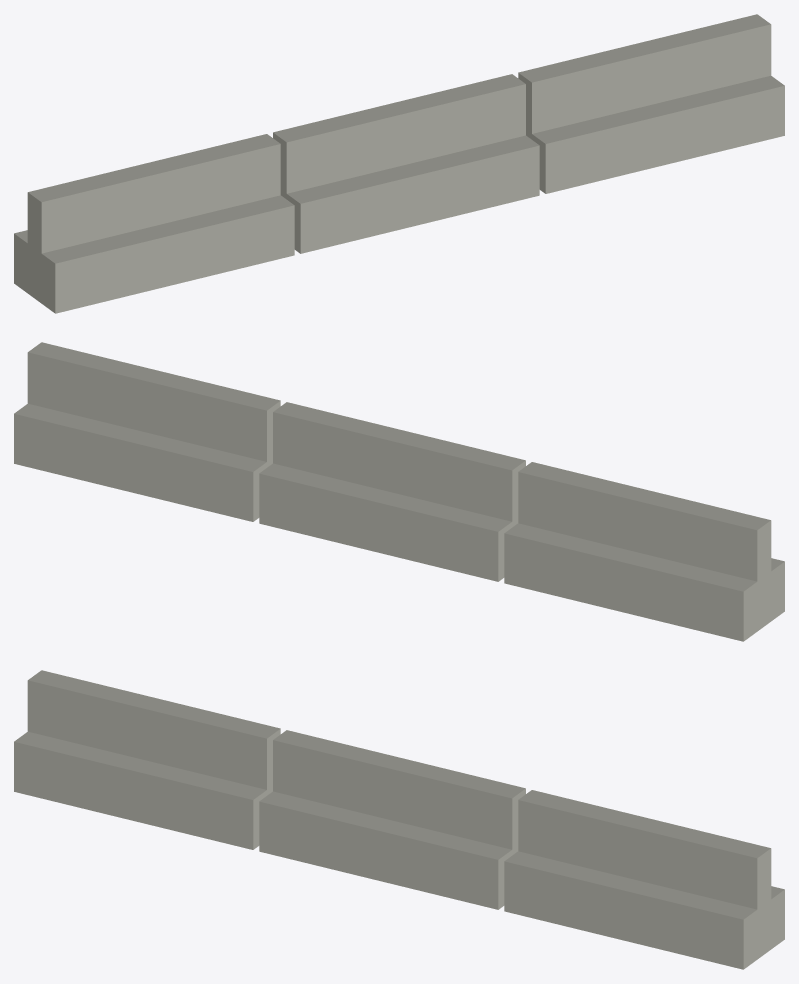
The model's file is SM_Vallas_v2_Jersey_LOD0.fbx.
The picture shows the model from 3 angles, top to bottom: view 1: azimuth 30°, elevation 25°; view 2: azimuth 150°, elevation 25°; view 3: azimuth 330°, elevation 25°; orthographic projection.
Parts seen in each view (by area): view 1: SM_ambiente_aerodromo_v22_LOD0; view 2: SM_ambiente_aerodromo_v22_LOD0; view 3: SM_ambiente_aerodromo_v22_LOD0.
Boxes of the visible parts, x1=… form: SM_ambiente_aerodromo_v22_LOD0: x1=14, y1=14, x2=784, y2=313; SM_ambiente_aerodromo_v22_LOD0: x1=14, y1=342, x2=784, y2=641; SM_ambiente_aerodromo_v22_LOD0: x1=14, y1=670, x2=784, y2=969.
Bounding box in the file's own units: 6.1 × 0.81 × 0.6.
